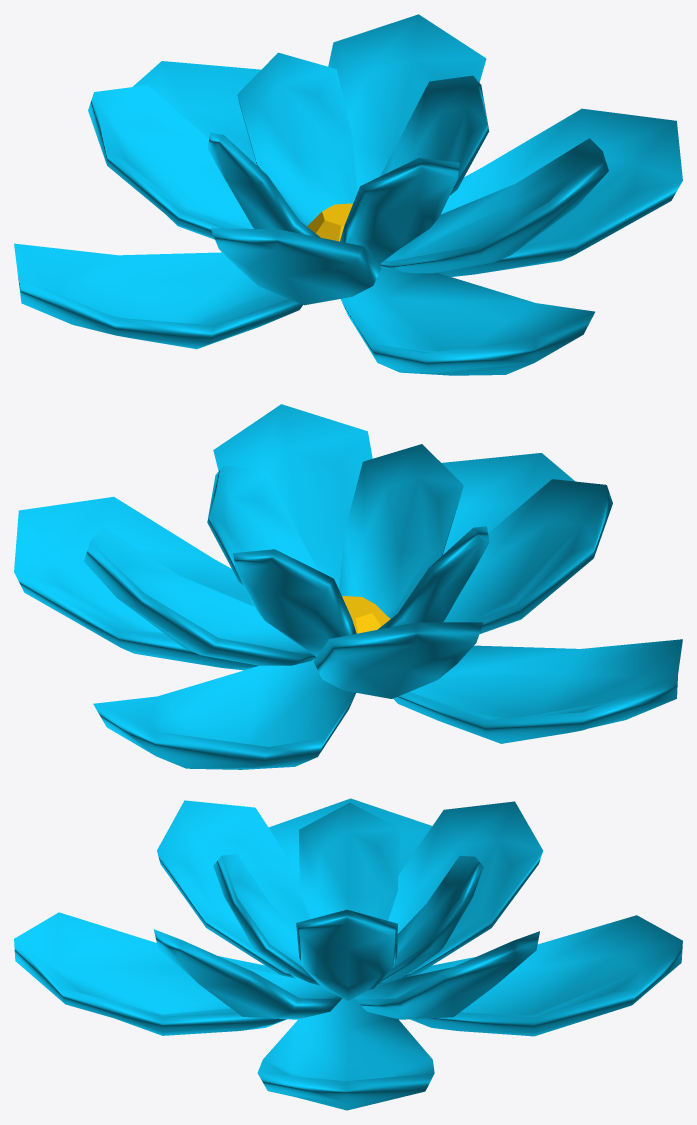
File: blue-flower.glb
The picture shows the model from 3 angles, top to bottom: view 1: azimuth 30°, elevation 25°; view 2: azimuth 150°, elevation 25°; view 3: azimuth 270°, elevation 25°; orthographic projection. The views are drawn at different scales.
Parts seen in each view (by area): view 1: Blue Flower; view 2: Blue Flower; view 3: Blue Flower.
Part boxes in pixels (left/top/right/bottom): Blue Flower: left=14, top=14, right=682, bottom=375; Blue Flower: left=14, top=404, right=682, bottom=769; Blue Flower: left=14, top=798, right=682, bottom=1110.
Size of the model in its own units: 8.84 by 2.51 by 8.84.
